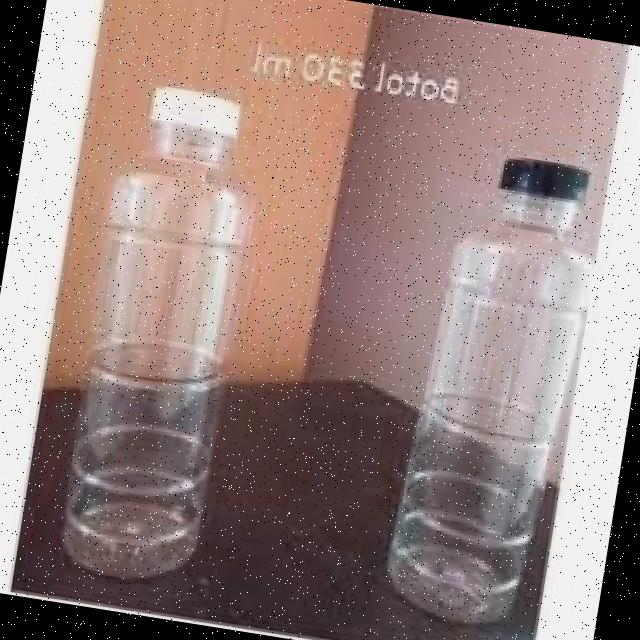bottle: (28, 62, 302, 602), (348, 116, 615, 640)
cap: (143, 79, 254, 140), (493, 152, 598, 208)
